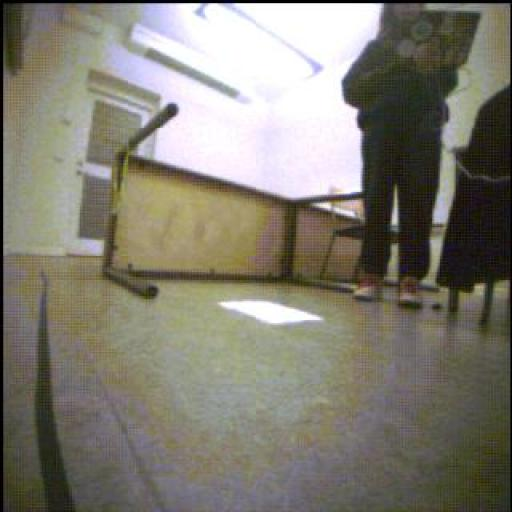Pad: (220, 302, 324, 326)
